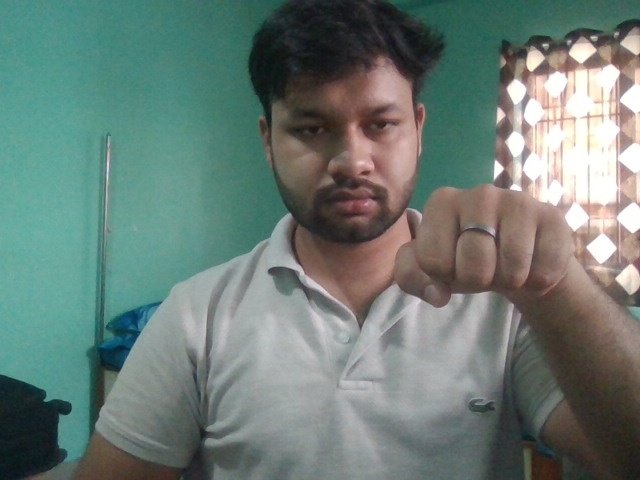Yes: (391, 183, 579, 310)
